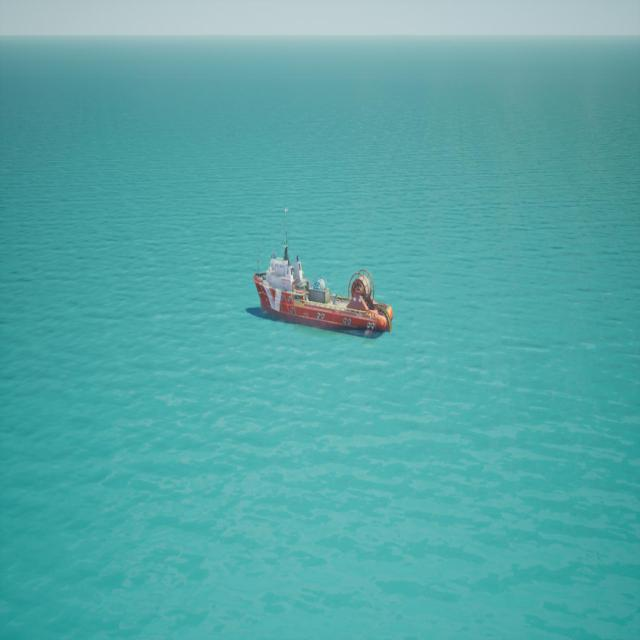tug boat: (248, 213, 397, 344)
